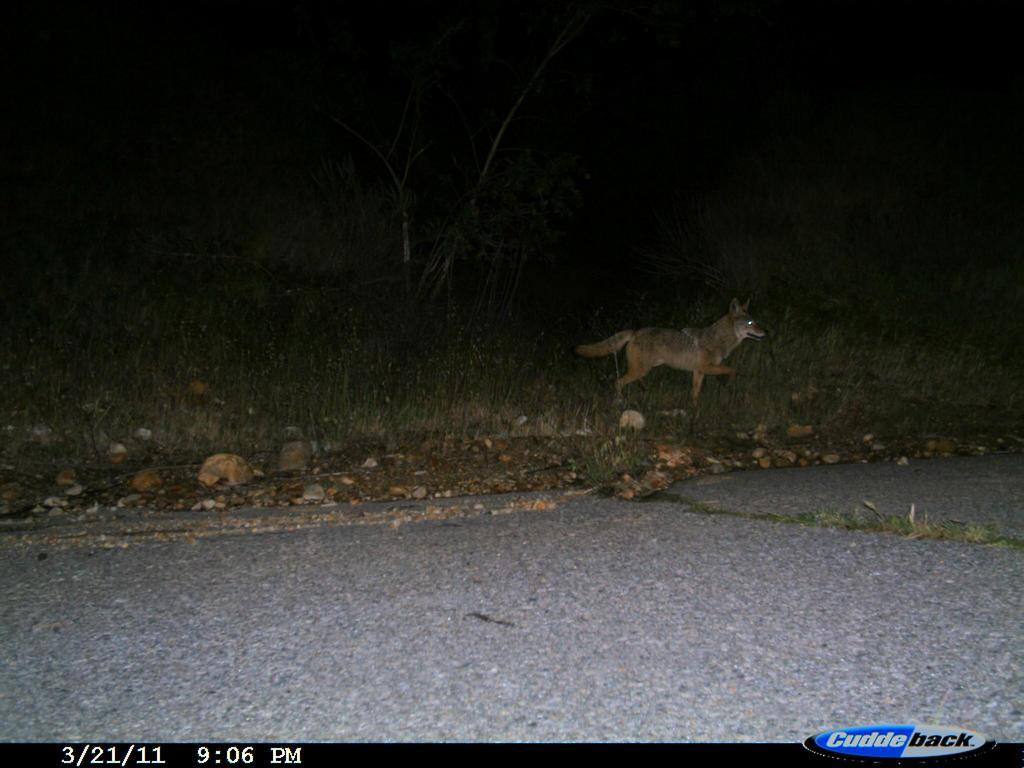coyote: (574, 291, 775, 410)
